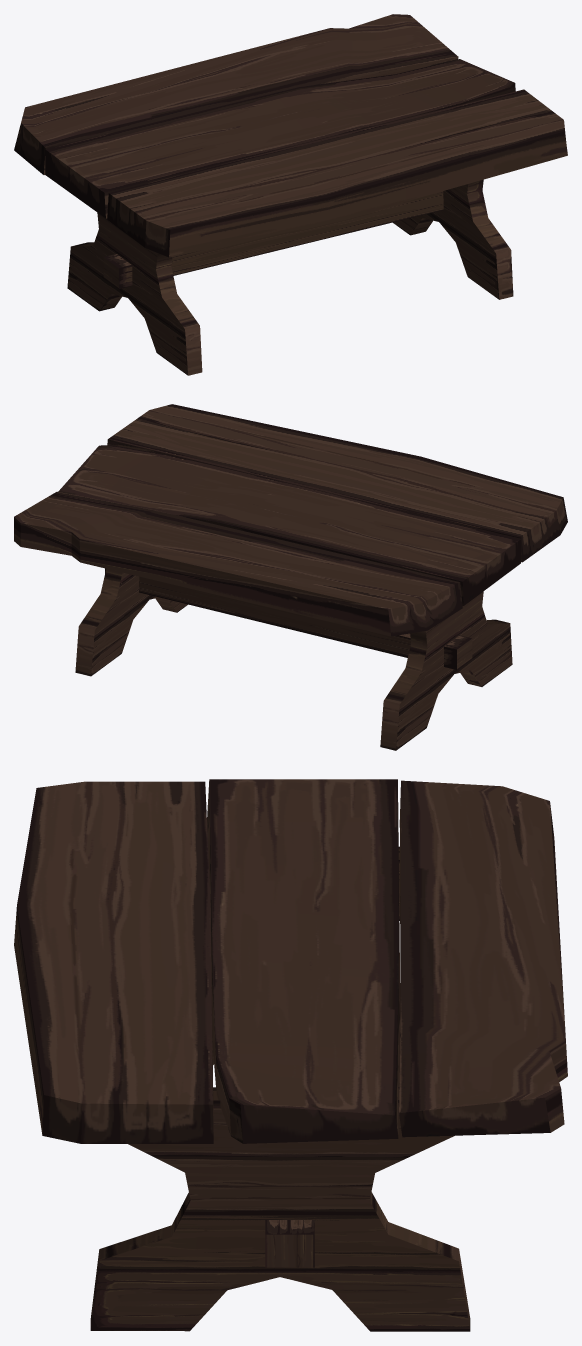
File: SM_PROP_table_battle_01.fbx
The picture shows the model from 3 angles, top to bottom: view 1: azimuth 30°, elevation 25°; view 2: azimuth 150°, elevation 25°; view 3: azimuth 270°, elevation 25°; orthographic projection. The views are drawn at different scales.
Parts seen in each view (by area): view 1: SM_PROP_table_battle_01; view 2: SM_PROP_table_battle_01; view 3: SM_PROP_table_battle_01.
Part boxes in pixels (x1=…): SM_PROP_table_battle_01: x1=14, y1=14, x2=567, y2=375; SM_PROP_table_battle_01: x1=14, y1=404, x2=567, y2=750; SM_PROP_table_battle_01: x1=14, y1=779, x2=567, y2=1331.
Bounding box in the file's own units: 201 × 75.92 × 144.
